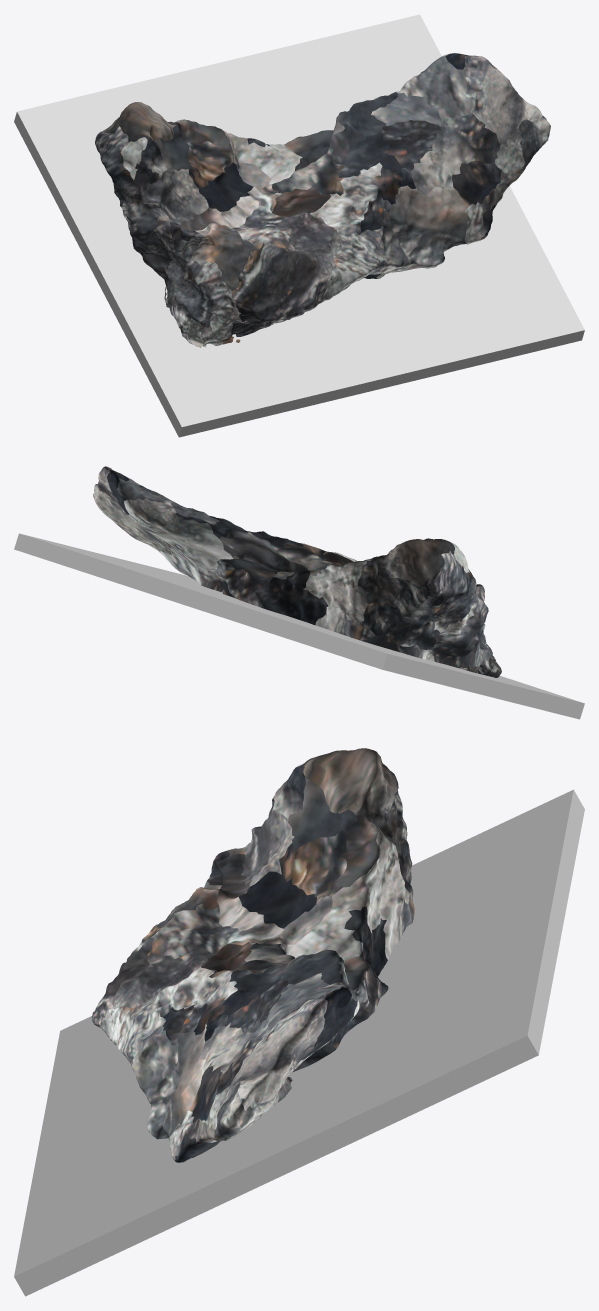
Rendered from BacuNiq.glb.
The picture shows the model from 3 angles, top to bottom: view 1: azimuth 30°, elevation 25°; view 2: azimuth 150°, elevation 25°; view 3: azimuth 270°, elevation 25°; orthographic projection. The views are drawn at different scales.
Parts seen in each view (by area): view 1: Meteorito.002; view 2: Meteorito.002; view 3: Meteorito.002.
Boxes of the visible parts, left/top/right/bottom form: Meteorito.002: left=14, top=14, right=584, bottom=437; Meteorito.002: left=14, top=466, right=584, bottom=719; Meteorito.002: left=14, top=748, right=584, bottom=1296.
Bounding box in the file's own units: 0.9487 × 0.5103 × 0.7706.
Materials: 4 (3 with a texture image).
